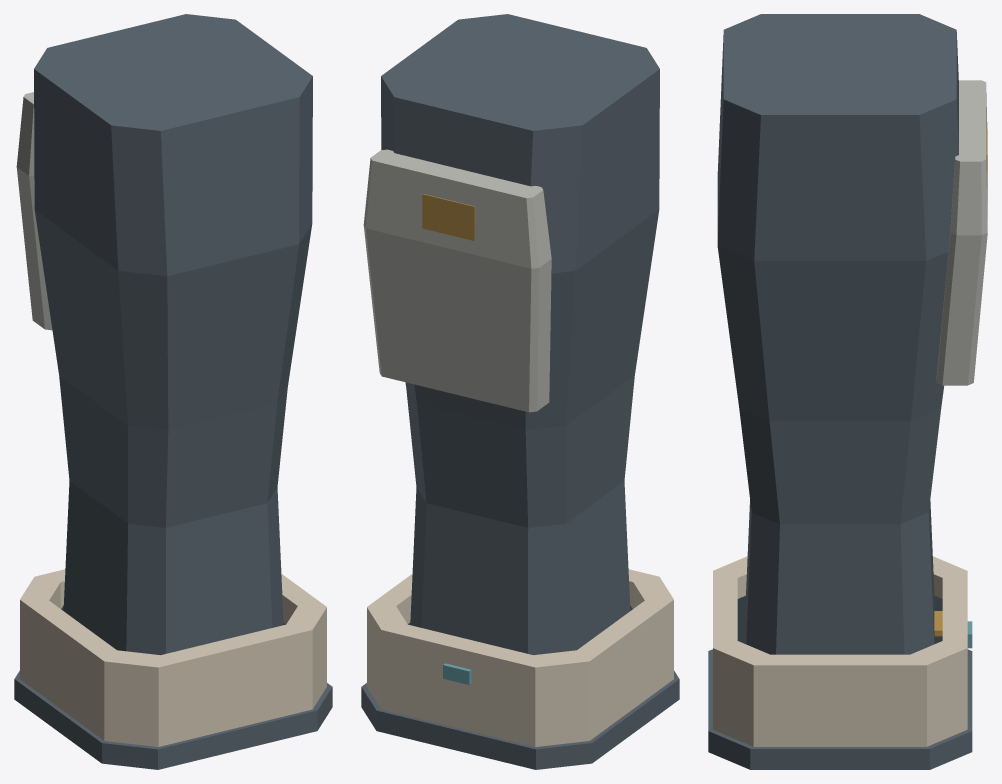
Rendered from visual-far.glb.
3 views of the same model, side by side, from view 1: azimuth 30°, elevation 25°; view 2: azimuth 150°, elevation 25°; view 3: azimuth 270°, elevation 25° (orthographic). The views are drawn at different scales.
Visible parts, largest first — view 1: 现有程序袖臂; view 2: 现有程序袖臂; view 3: 现有程序袖臂.
Part boxes in pixels (x1,y1,x2,y2): 现有程序袖臂: [14, 14, 332, 769]; 现有程序袖臂: [361, 14, 679, 769]; 现有程序袖臂: [708, 14, 987, 769].
Bounding box in the file's own units: 0.176 × 0.46 × 0.18.
6 materials, 6 textured.
